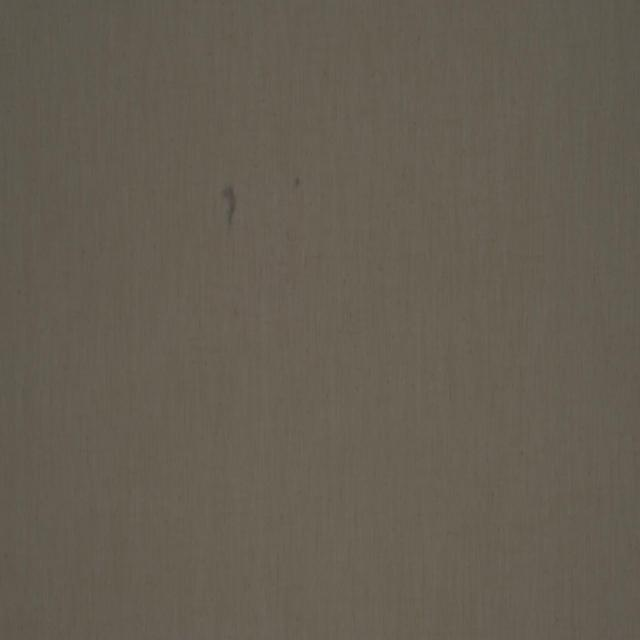dirty: (222, 183, 236, 227), (294, 174, 302, 188)
